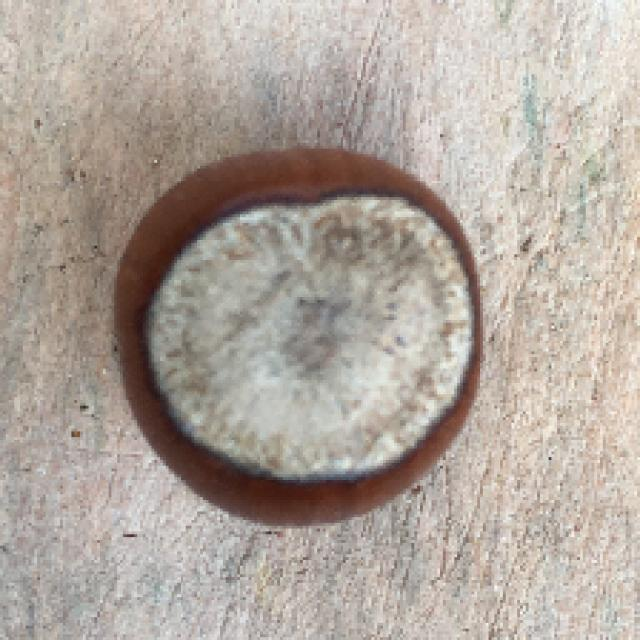qualityHazelnut: (105, 143, 488, 529)
